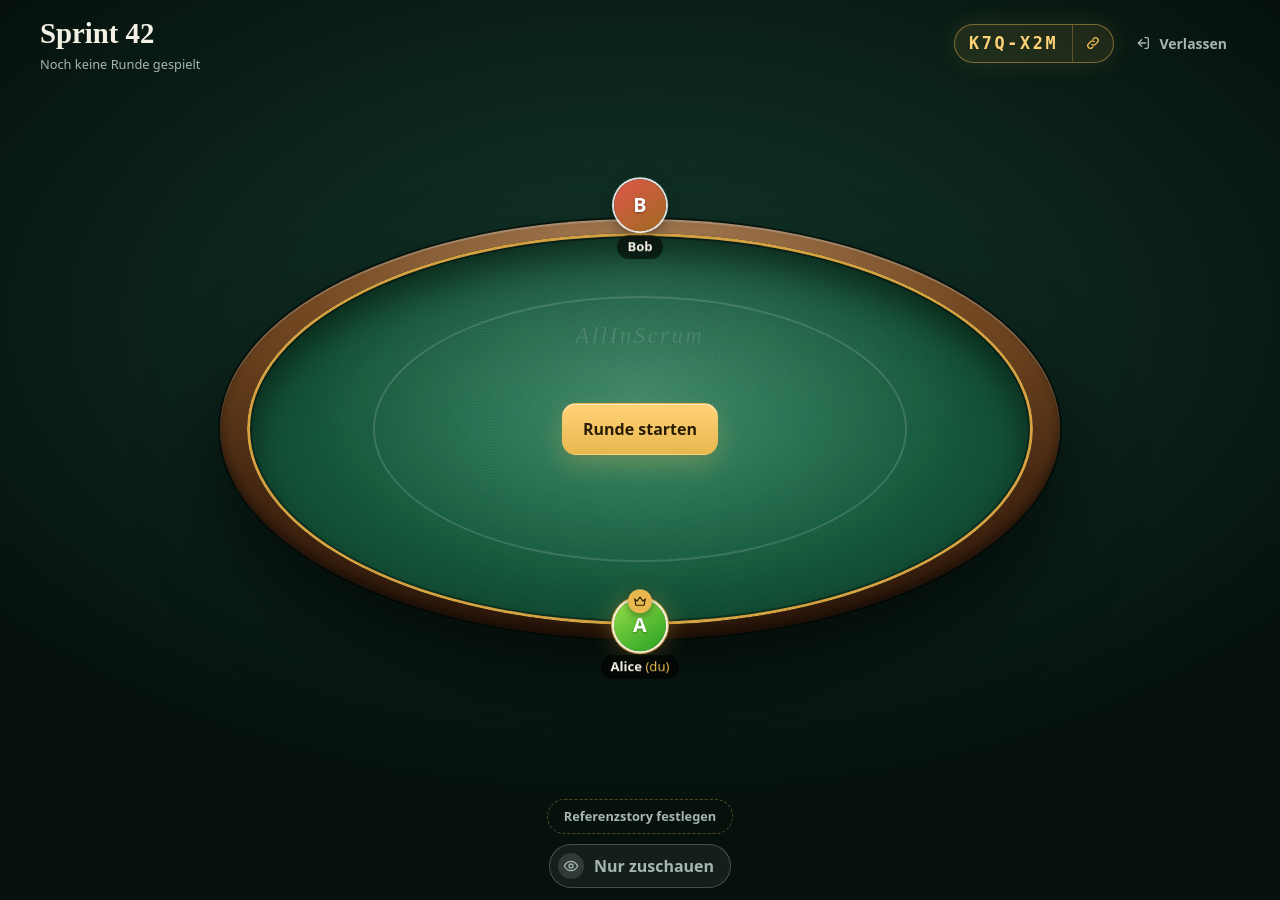
Test: Pokertisch › Einladen › sagt ehrlich Bescheid, wenn der Browser das Kopieren verweigert
Click the button named "Join-Code K7Q-X2M kopieren" at (1014, 43), box [955,25,1072,62]
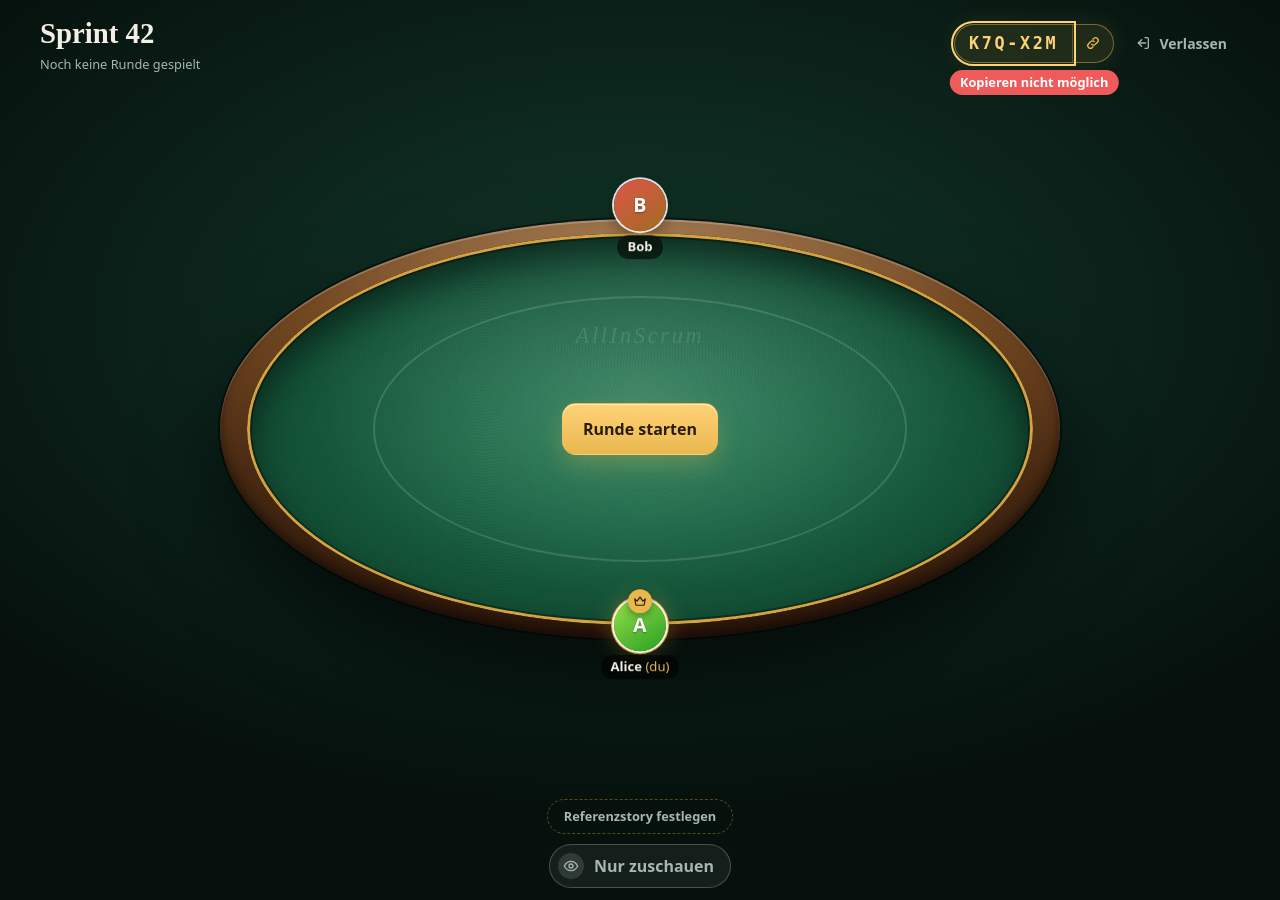
Now the text "Kopieren nicht möglich" is shown, box [950,70,1118,95]
